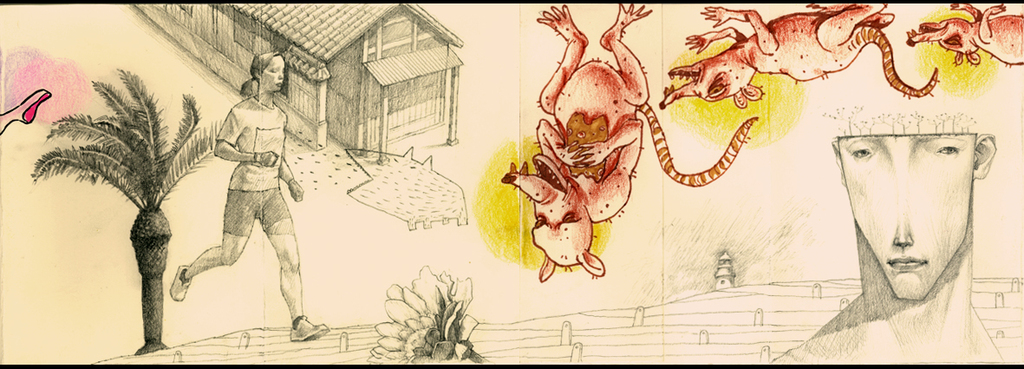Animal: (498, 3, 758, 283), (661, 1, 941, 105), (902, 0, 1022, 72)
